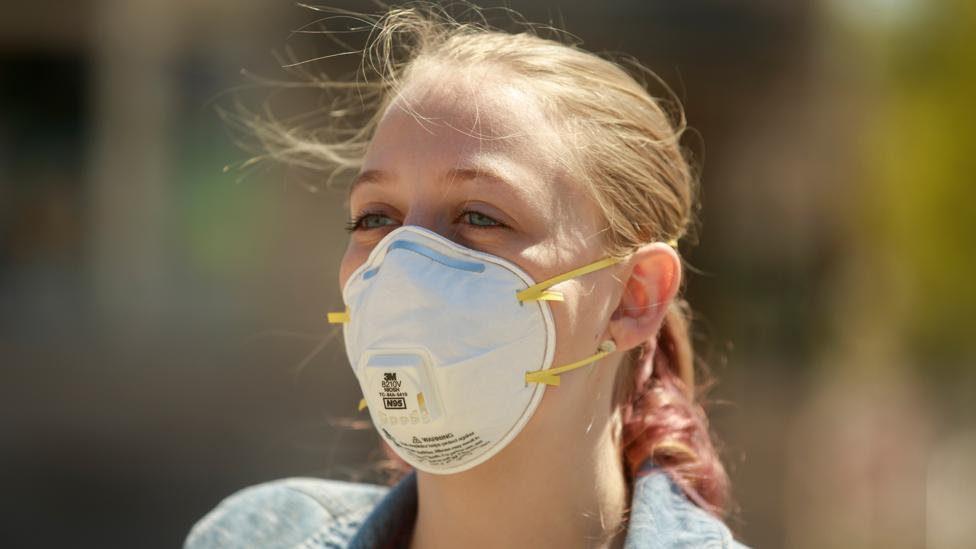mask: (313, 17, 693, 475)
